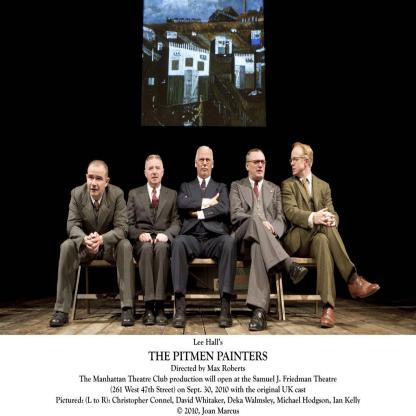face: (88, 165, 106, 197), (291, 146, 306, 176), (146, 160, 164, 184), (250, 153, 266, 180), (197, 151, 213, 177)
